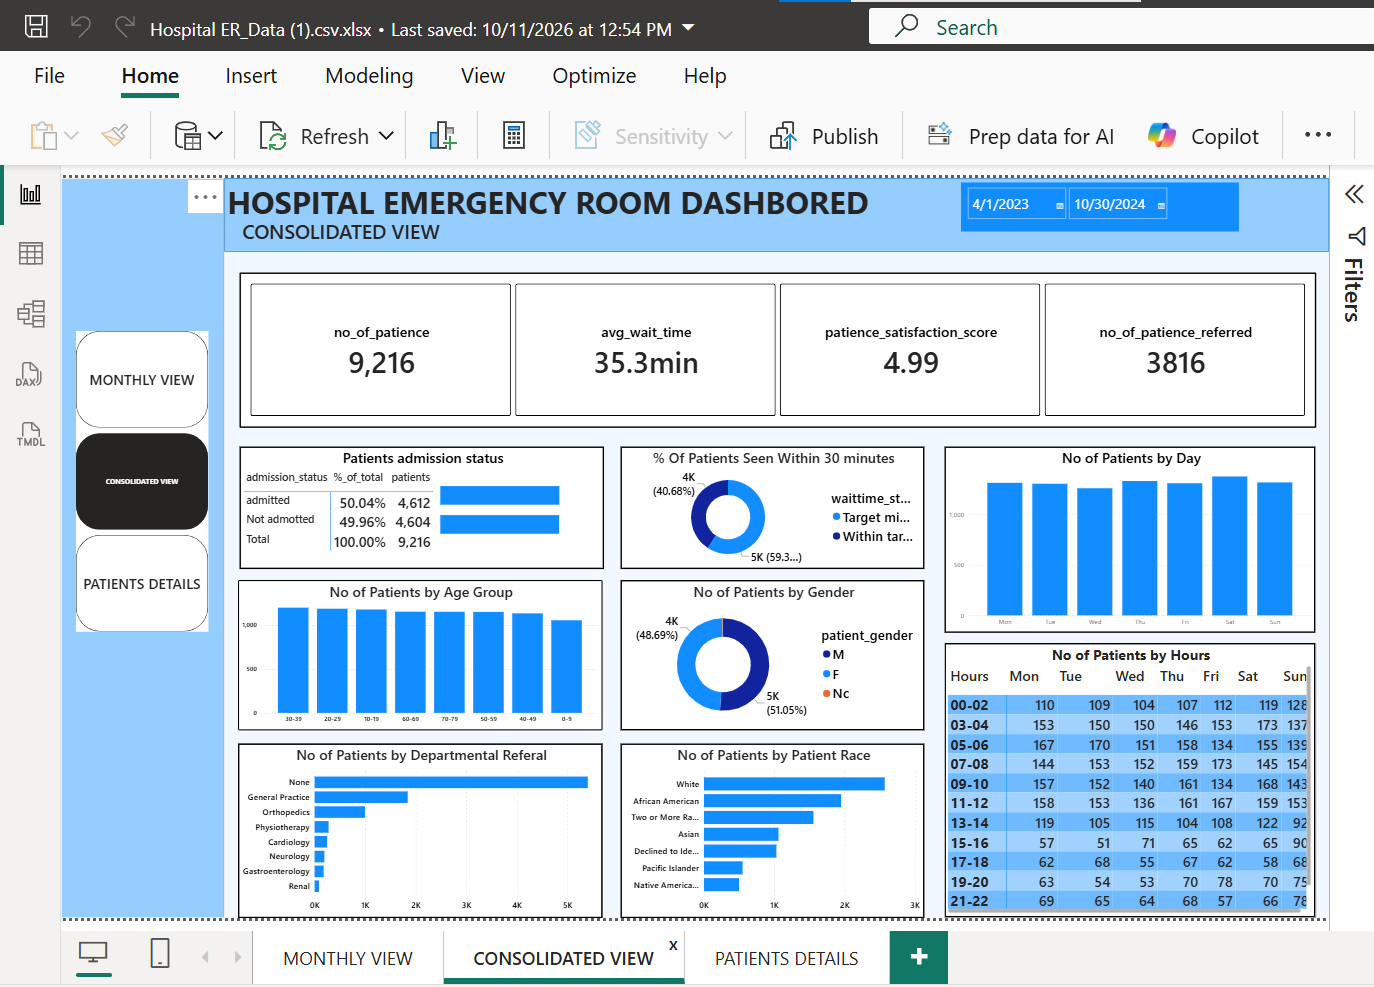

The dashboard page shown, as its layout file describes it:
{"tool":"powerbi","page":{"name":"CONSOLIDATED VIEW","canvas":[2400,1400],"ordinal":1},"visuals":[{"type":"shape","box":[0,0,309.3,1401.1],"z":0},{"type":"shape","box":[309.3,0,2090.8,139.2],"z":1000},{"type":"textbox","box":[309.3,0,1323.7,111.3],"z":2000},{"type":"textbox","box":[337.1,71.1,479.4,68],"z":3000},{"type":"slicer","fields":{"Values":["dim_date.Date"]},"box":[1704.2,9.3,525.8,92.8],"z":4000},{"type":"textbox","box":[671.1,179.4,15.5,64.9],"z":7000},{"type":"textbox","box":[681.1,189.4,15.5,64.9],"z":8000},{"type":"cardVisual","fields":{"Data":["_Measure.no_of_patience","_Measure.avg_wait_time","_Measure.patience_satisfaction_score","_Measure.no_of_patience_referred"]},"box":[337.1,179.4,2038.2,293.8],"z":9000},{"type":"pivotTable","title":"Patients admission status","fields":{"Rows":["Hospital_ER_Data.admission_status"],"Values":["_Measure.no_of_patience","_Measure.no_of_patience1"]},"box":[337.1,507.2,689.7,232],"z":10000},{"type":"barChart","fields":{"Category":["Hospital_ER_Data.admission_status"],"Y":["_Measure.no_of_patience"]},"box":[711.4,541.2,303.1,167],"z":11000},{"type":"barChart","fields":{"Category":["Hospital_ER_Data.department_referral"],"Y":["_Measure.no_of_patience"]},"box":[334,1070.1,689.7,330.9],"z":12000},{"type":"donutChart","title":"% Of Patients Seen Within 30 minutes","fields":{"Category":["Hospital_ER_Data.waittime_status"],"Y":["_Measure.no_of_patience"]},"box":[1057.8,507.2,575.3,232],"z":13000},{"type":"clusteredColumnChart","title":"No of Patients by Age Group","fields":{"Category":["Hospital_ER_Data.age_group"],"Y":["_Measure.no_of_patience"]},"box":[334,760.8,689.7,284.5],"z":14000},{"type":"donutChart","title":"No of Patients by Gender","fields":{"Y":["_Measure.no_of_patience"],"Category":["Hospital_ER_Data.patient_gender"]},"box":[1057.8,760.8,575.3,284.5],"z":15000},{"type":"barChart","title":"No of Patients by Departmental Referal","fields":{"Category":["Hospital_ER_Data.department_referral"],"Y":["_Measure.no_of_patience"]},"box":[334,1069.1,689.7,330.9],"z":16000},{"type":"barChart","title":"No of Patients by Patient Race","fields":{"Y":["_Measure.no_of_patience"],"Category":["Hospital_ER_Data.patient_race"]},"box":[1057.8,1070.1,575.3,330.9],"z":17000},{"type":"pivotTable","title":"No of Patients by Hours","fields":{"Rows":["Hospital_ER_Data.waittime_interval"],"Columns":["dim_date.Day_name"],"Values":["_Measure.no_of_patience"]},"box":[1673.2,881.5,702.1,519.6],"z":18000},{"type":"columnChart","title":"No of Patients by Day ","fields":{"Category":["dim_date.Day_name"],"Y":["_Measure.no_of_patience"]},"box":[1673.2,507.2,702.1,352.6],"z":19000},{"type":"pageNavigator","title":"Monthly View","box":[27.8,290.7,250.5,569.1],"z":19001}]}

Visuals, with their boxes on the page's 2400x1400 design canvas (x1, y1, x2, y2). These are canvas units, not pixel positions in the 1374x987 screenshot, which may show the page scaled, cropped or inside an application window:
shape: locate(0, 0, 309, 1401)
shape: locate(309, 0, 2400, 139)
textbox: locate(309, 0, 1633, 111)
textbox: locate(337, 71, 816, 139)
slicer - dim_date.Date: locate(1704, 9, 2230, 102)
textbox: locate(671, 179, 687, 244)
textbox: locate(681, 189, 697, 254)
cardVisual - _Measure.no_of_patience x _Measure.avg_wait_time: locate(337, 179, 2375, 473)
"Patients admission status" pivotTable: locate(337, 507, 1027, 739)
barChart - Hospital_ER_Data.admission_status x _Measure.no_of_patience: locate(711, 541, 1014, 708)
barChart - Hospital_ER_Data.department_referral x _Measure.no_of_patience: locate(334, 1070, 1024, 1401)
"% Of Patients Seen Within 30 minutes" donutChart: locate(1058, 507, 1633, 739)
"No of Patients by Age Group" clusteredColumnChart: locate(334, 761, 1024, 1045)
"No of Patients by Gender" donutChart: locate(1058, 761, 1633, 1045)
"No of Patients by Departmental Referal" barChart: locate(334, 1069, 1024, 1400)
"No of Patients by Patient Race" barChart: locate(1058, 1070, 1633, 1401)
"No of Patients by Hours" pivotTable: locate(1673, 882, 2375, 1401)
"No of Patients by Day " columnChart: locate(1673, 507, 2375, 860)
"Monthly View" pageNavigator: locate(28, 291, 278, 860)
